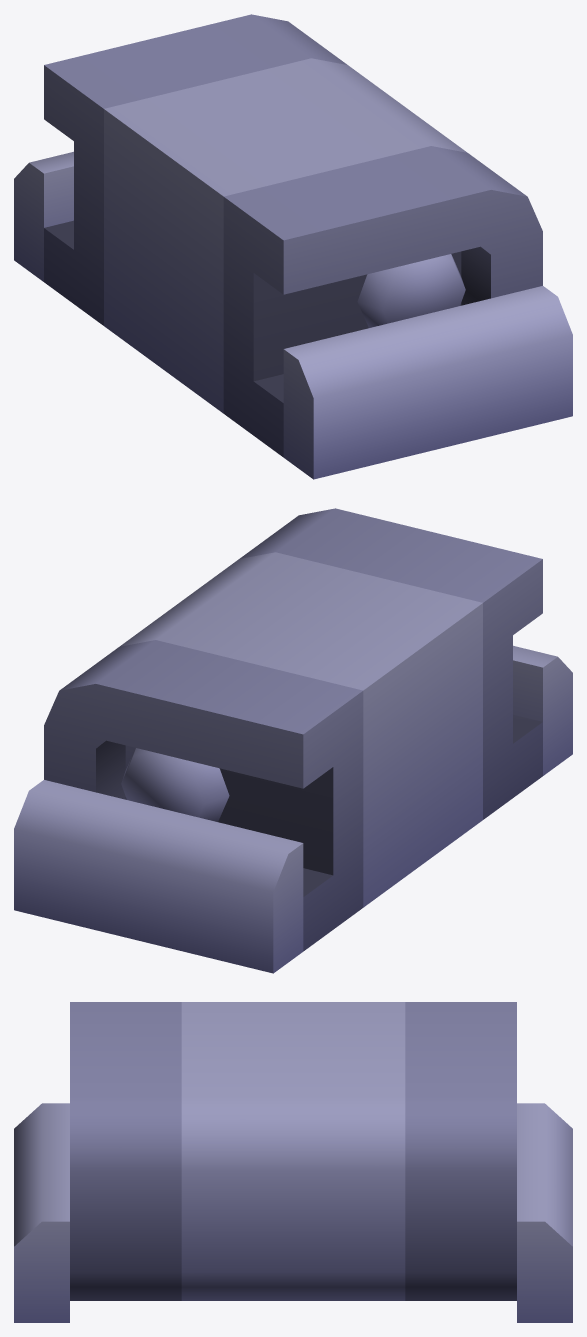
The model's file is kenney-factory-conveyor-long-stripe-sides-part-end.glb.
3 views of the same model, one above another, from view 1: azimuth 30°, elevation 25°; view 2: azimuth 150°, elevation 25°; view 3: azimuth 270°, elevation 25° (orthographic). The views are drawn at different scales.
Visible parts, largest first — view 1: conveyor-long-stripe-sides-part-end; view 2: conveyor-long-stripe-sides-part-end; view 3: conveyor-long-stripe-sides-part-end.
Part boxes in pixels (box(x1,y1,x2,y2)): conveyor-long-stripe-sides-part-end: box(14, 14, 572, 479); conveyor-long-stripe-sides-part-end: box(14, 508, 572, 973); conveyor-long-stripe-sides-part-end: box(14, 1002, 572, 1322).
Size of the model in its own units: 0.75 by 0.6 by 1.5.
Materials: 1 (1 with a texture image).
